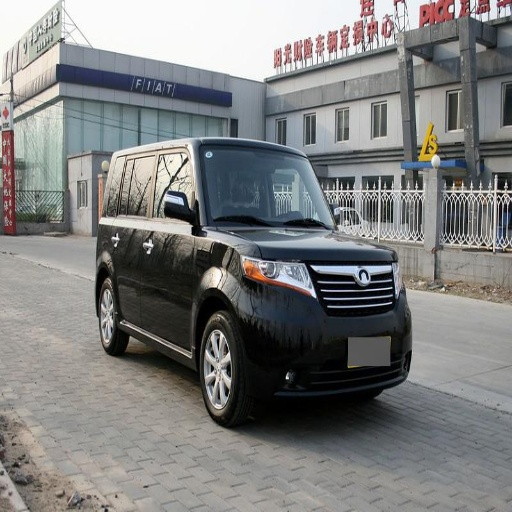front_bumper: (243, 262, 410, 394)
front_right_door: (143, 188, 195, 346)
front_right_light: (243, 255, 313, 295)
